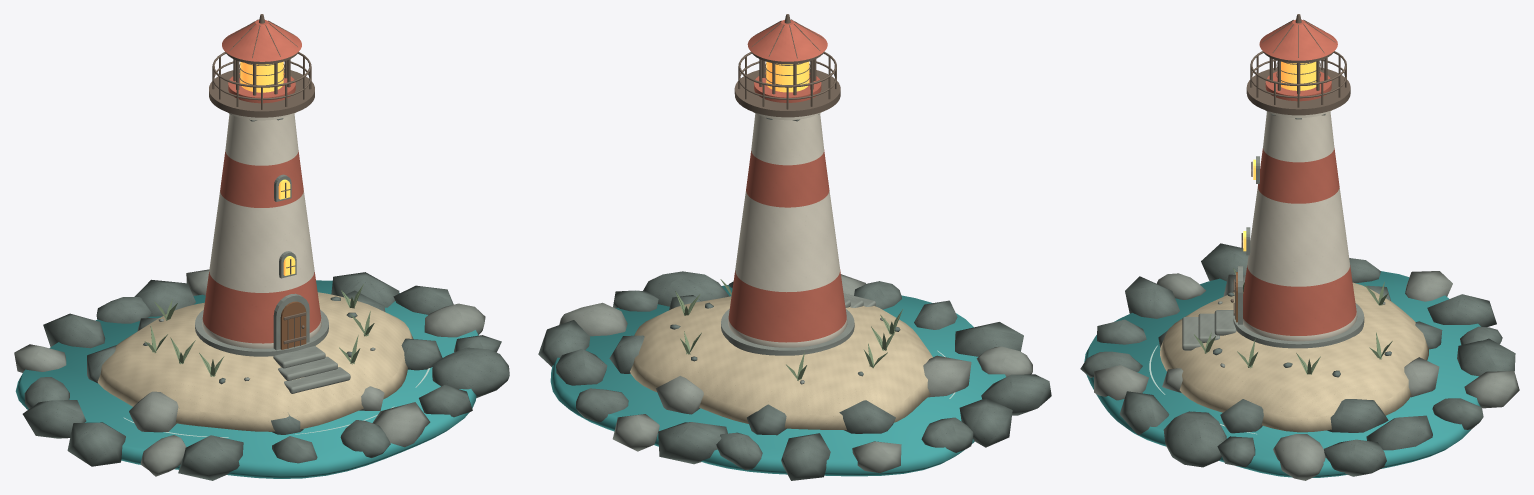
Rendered from lighthouse-island-v6.glb.
3 views of the same model, side by side, from view 1: azimuth 30°, elevation 25°; view 2: azimuth 150°, elevation 25°; view 3: azimuth 270°, elevation 25° (orthographic). The views are drawn at different scales.
Visible parts, largest first — view 1: Lighthouse | collectible export; view 2: Lighthouse | collectible export; view 3: Lighthouse | collectible export.
Part boxes in pixels (x1,y1,x2,y2): Lighthouse | collectible export: [14, 14, 509, 480]; Lighthouse | collectible export: [538, 14, 1051, 480]; Lighthouse | collectible export: [1080, 14, 1519, 480].
Size of the model in its own units: 1.89 by 1.51 by 1.62.
Materials: 11 (5 with a texture image).
